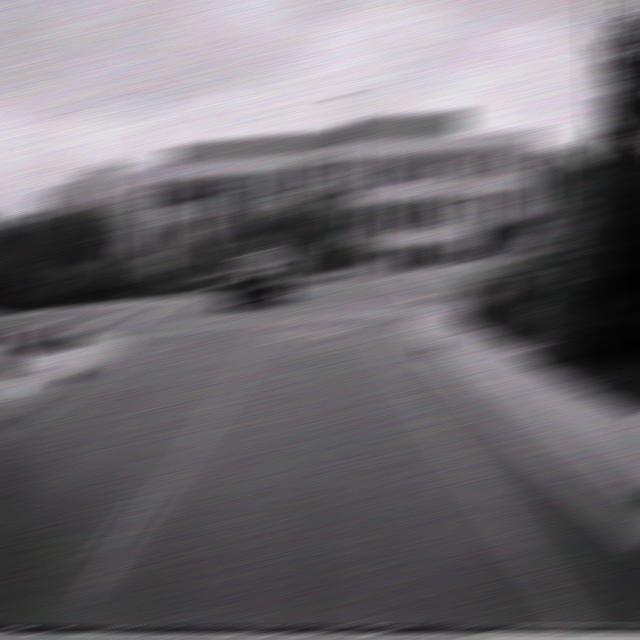stop: (428, 161, 462, 198)
